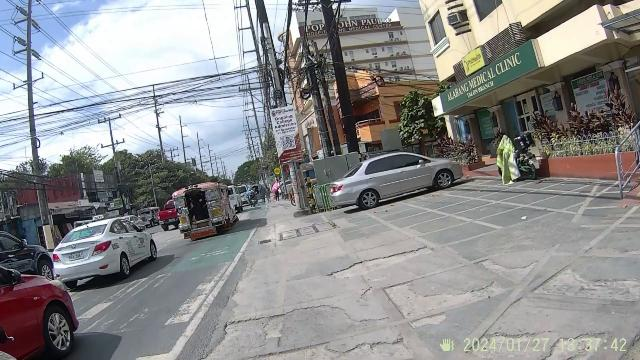utility_post: (9, 1, 45, 175), (96, 113, 125, 177)
